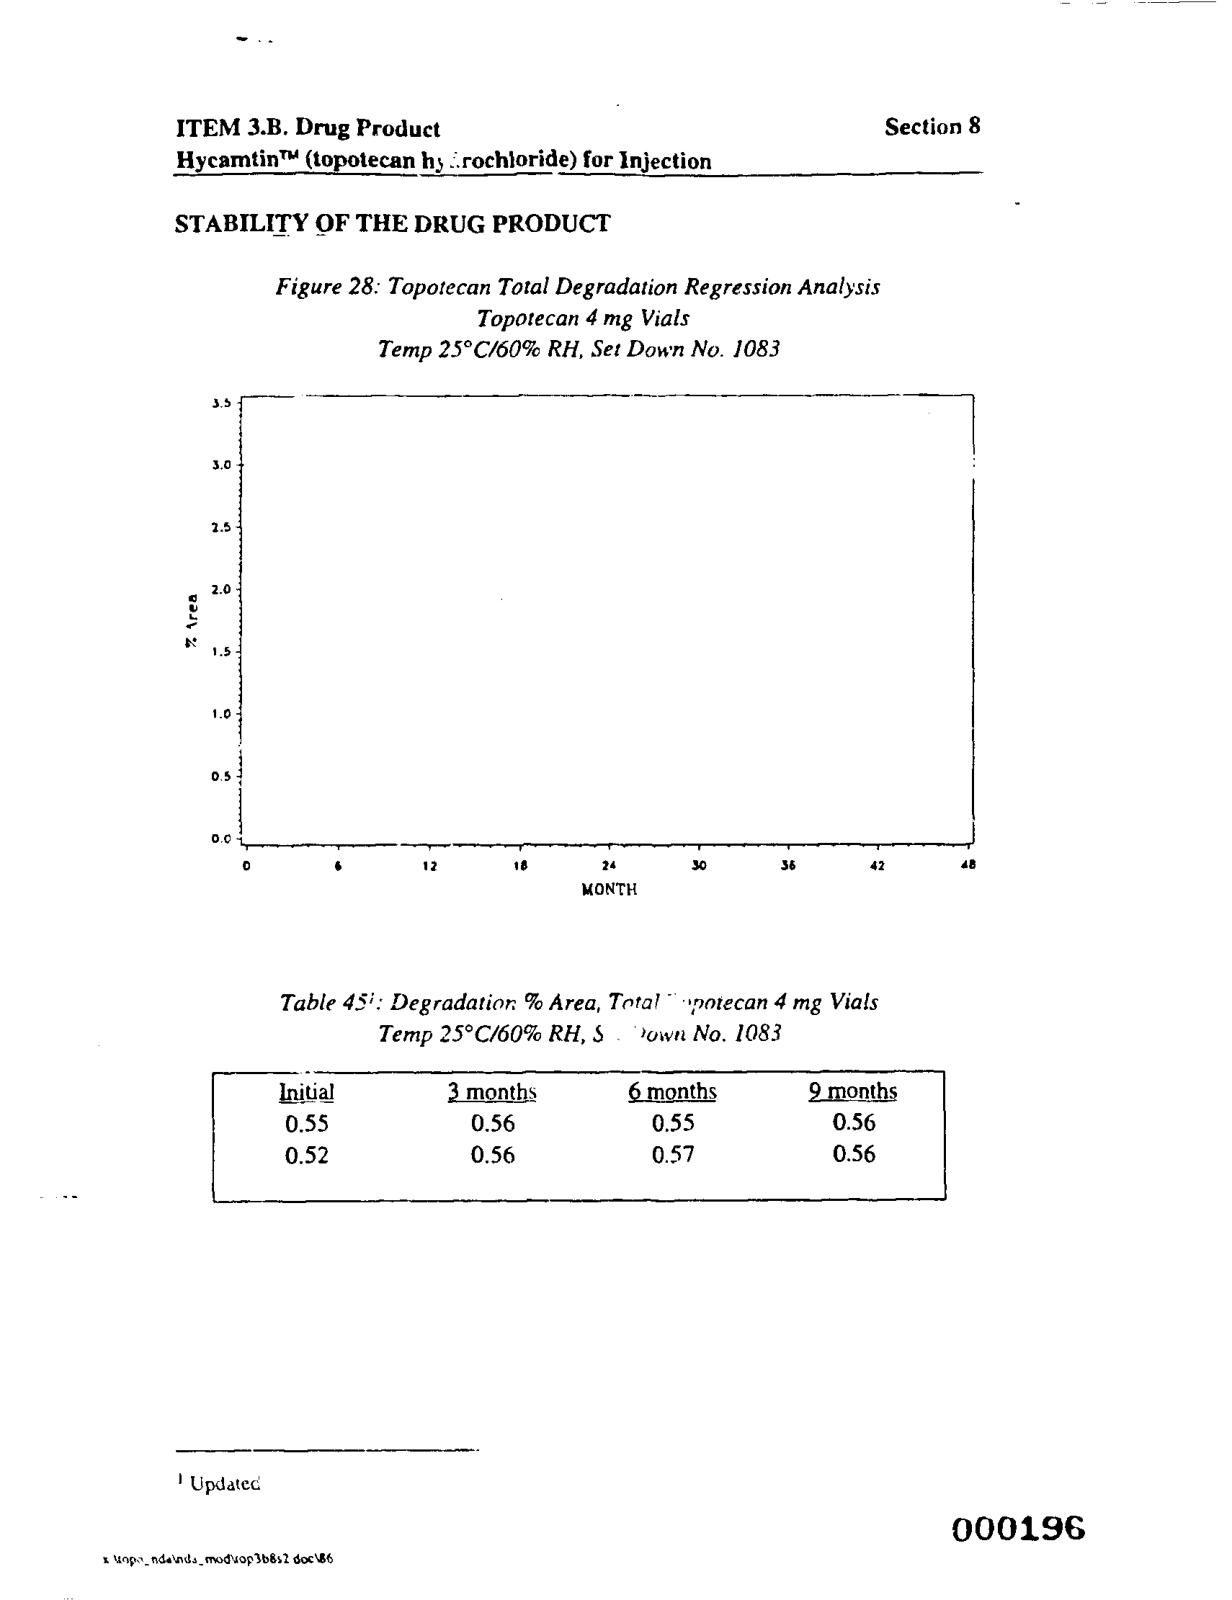partial_lined: (210, 1068, 950, 1205)
